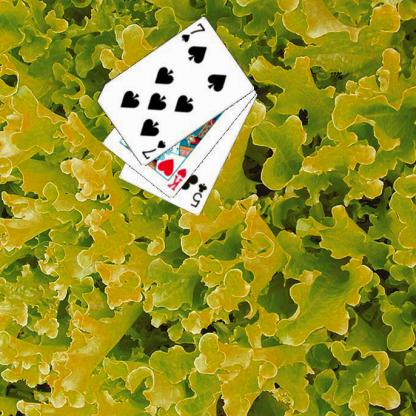5C: (188, 181, 209, 209)
7S: (139, 138, 167, 161), (178, 21, 206, 44)
KH: (164, 166, 188, 192)
